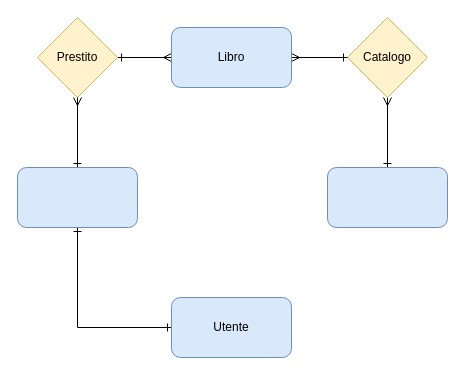
Image size: 465x375. Some labels were removed from this diagram. Each missing label, with the box of its shape:
Biblioteca: (326, 166, 448, 228)
Tessera: (16, 166, 138, 228)
